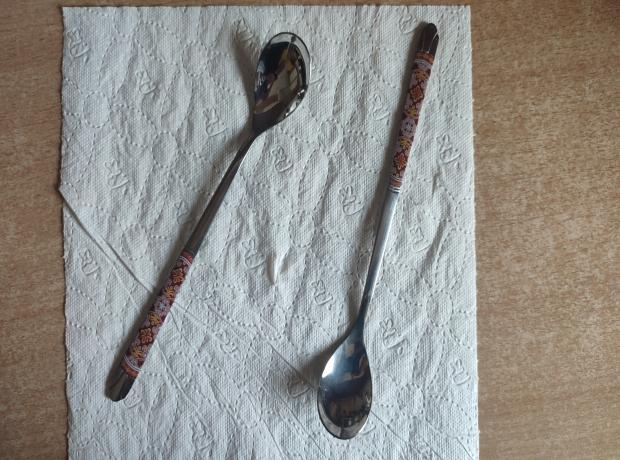metal: (107, 25, 313, 402), (316, 23, 440, 440)
